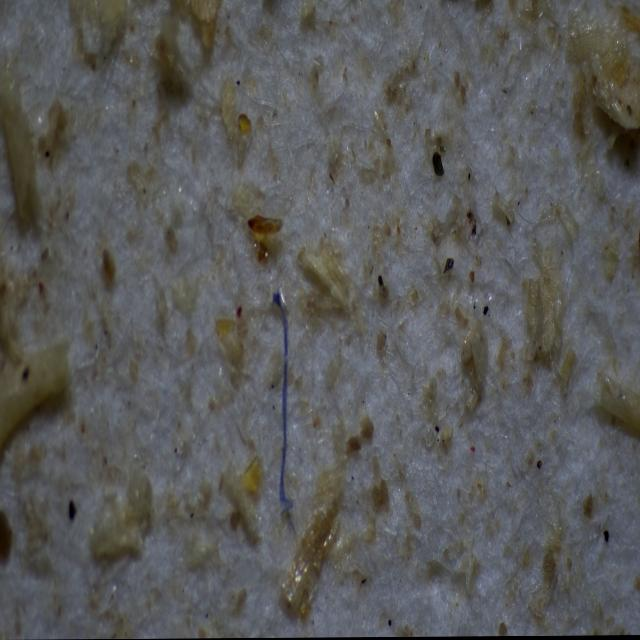microplastic: (271, 295, 295, 542)
